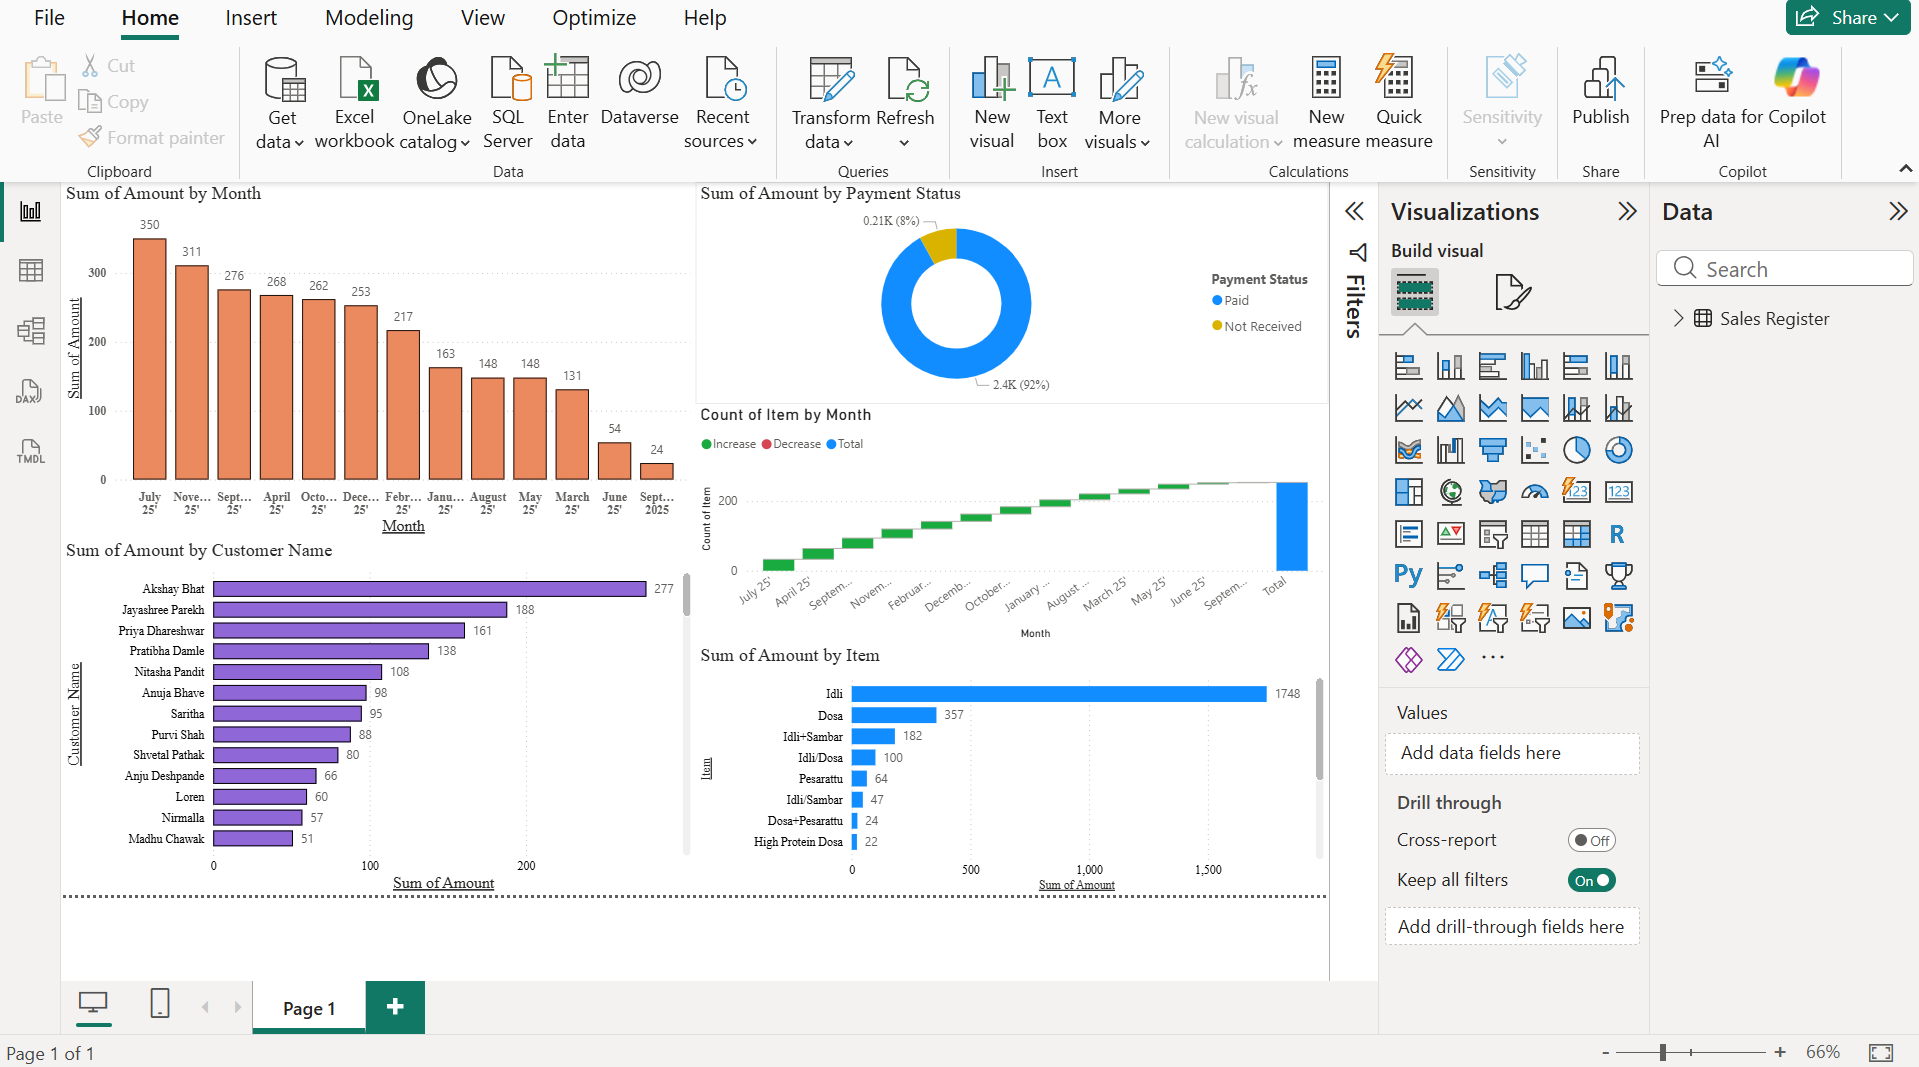

This screenshot's page, from the dashboard's own definition file:
{"tool":"powerbi","page":{"name":"Page 1","canvas":[1280,720],"ordinal":0},"visuals":[{"type":"columnChart","fields":{"Category":["Sales Register.Month"],"Y":["Sum(Sales Register.Amount)"]},"box":[0,0,640.5,360.4],"z":0},{"type":"donutChart","fields":{"Category":["Sales Register.Payment Status"],"Y":["Sum(Sales Register.Amount)"]},"box":[640.5,0,639,224.1],"z":1000},{"type":"clusteredBarChart","fields":{"Category":["Sales Register.Customer Name"],"Y":["Sum(Sales Register.Amount)"]},"box":[0,360.4,640.5,360.4],"z":2000},{"type":"clusteredBarChart","fields":{"Category":["Sales Register.Item"],"Y":["Sum(Sales Register.Amount)"]},"box":[640.5,466.4,639,254.4],"z":3000},{"type":"waterfallChart","fields":{"Category":["Sales Register.Month"],"Y":["CountNonNull(Sales Register.Item)"]},"box":[641,224,639,242],"z":4000}]}

Visuals, with their boxes on the page's 1280x720 design canvas (x1, y1, x2, y2). These are canvas units, not pixel positions in the 1919x1067 screenshot, which may show the page scaled, cropped or inside an application window:
columnChart - Sales Register.Month x Sum(Sales Register.Amount): bbox(0, 0, 640, 360)
donutChart - Sales Register.Payment Status x Sum(Sales Register.Amount): bbox(640, 0, 1280, 224)
clusteredBarChart - Sales Register.Customer Name x Sum(Sales Register.Amount): bbox(0, 360, 640, 721)
clusteredBarChart - Sales Register.Item x Sum(Sales Register.Amount): bbox(640, 466, 1280, 721)
waterfallChart - Sales Register.Month x CountNonNull(Sales Register.Item): bbox(641, 224, 1280, 466)
